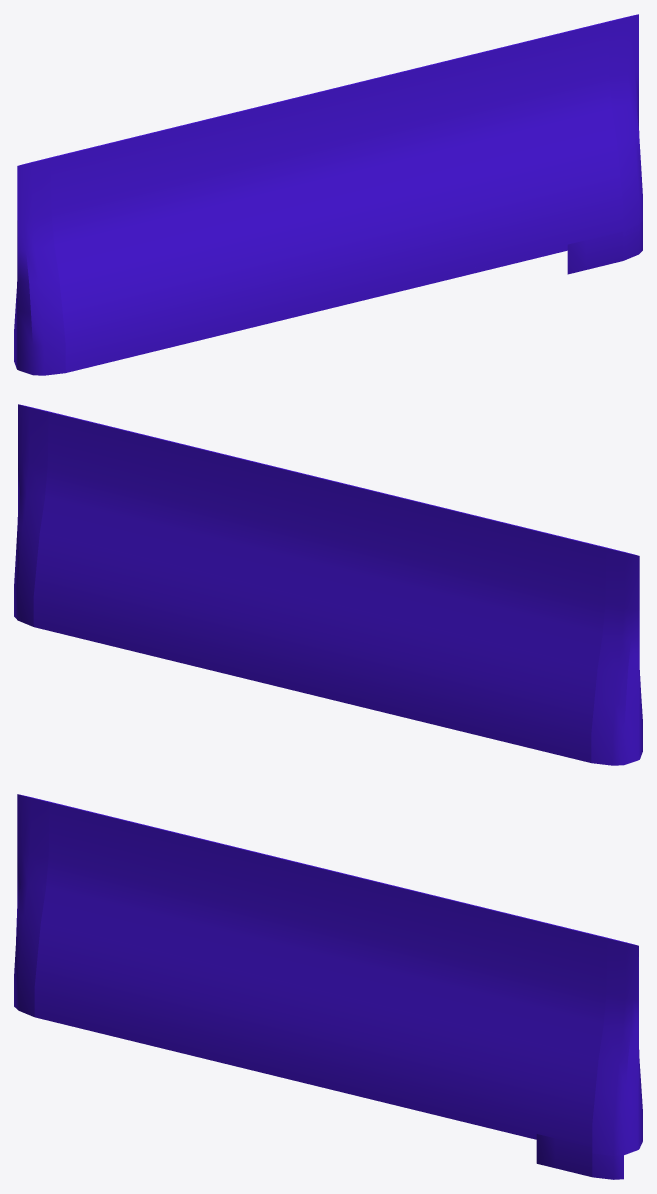
Rendered from pack-top.glb.
3 renders of one model, top to bottom at view 1: azimuth 30°, elevation 25°; view 2: azimuth 150°, elevation 25°; view 3: azimuth 330°, elevation 25°, orthographic.
Parts seen in each view (by area): view 1: Cube.001; view 2: Cube.001; view 3: Cube.001.
Boxes of the visible parts, x1,y1,x2,y2 form: Cube.001: [14, 14, 642, 375]; Cube.001: [14, 404, 642, 765]; Cube.001: [14, 794, 642, 1179].
Bounding box in the file's own units: 1.32 × 0.4616 × 0.1136.
